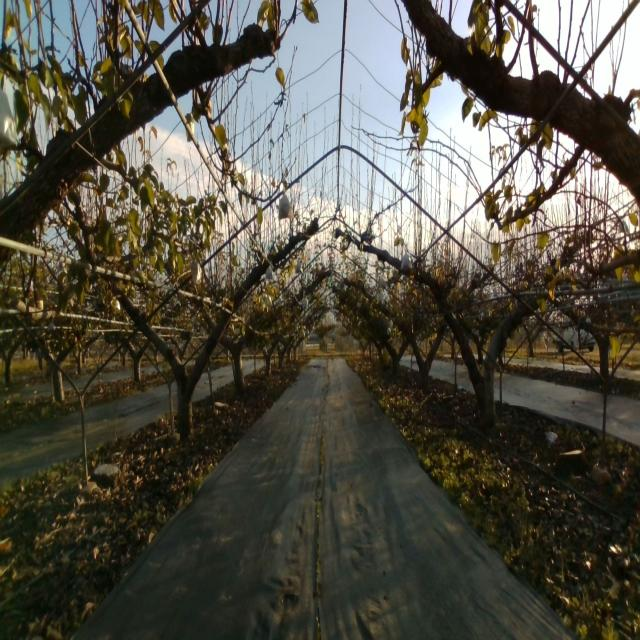pearbags: (278, 189, 294, 219), (190, 260, 203, 284), (400, 249, 413, 271)
